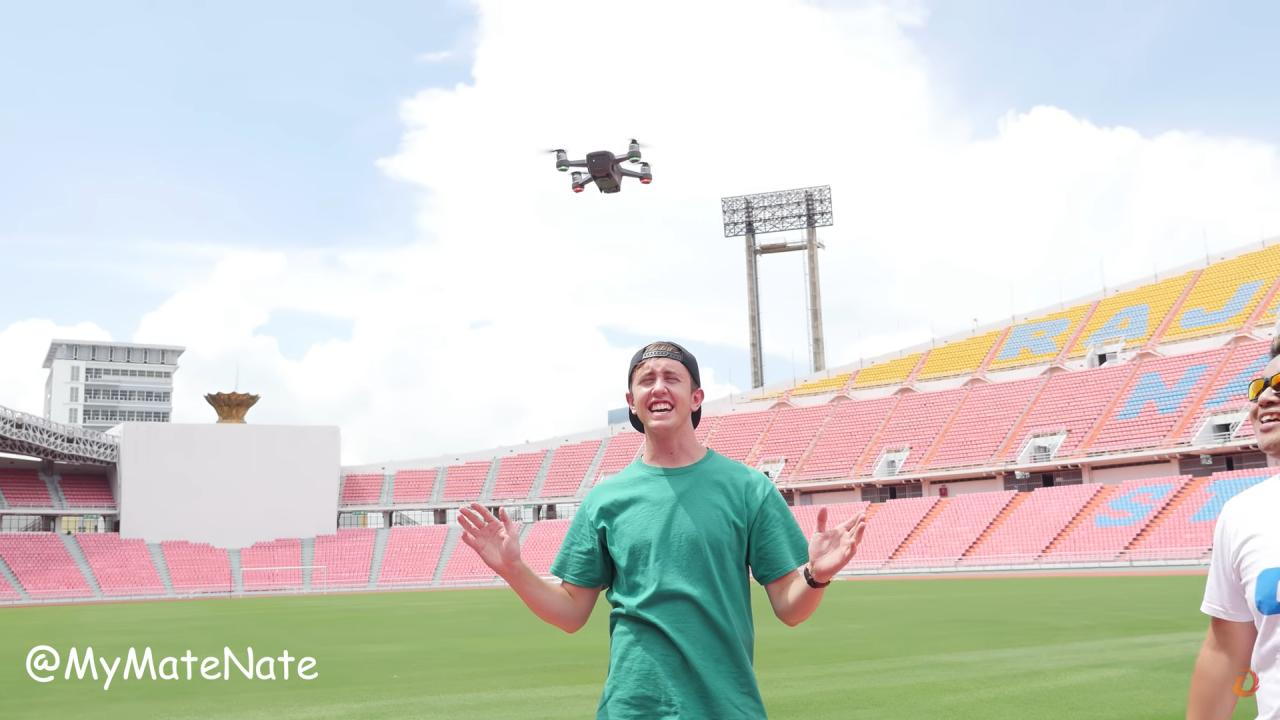Drone: (538, 128, 668, 206)
